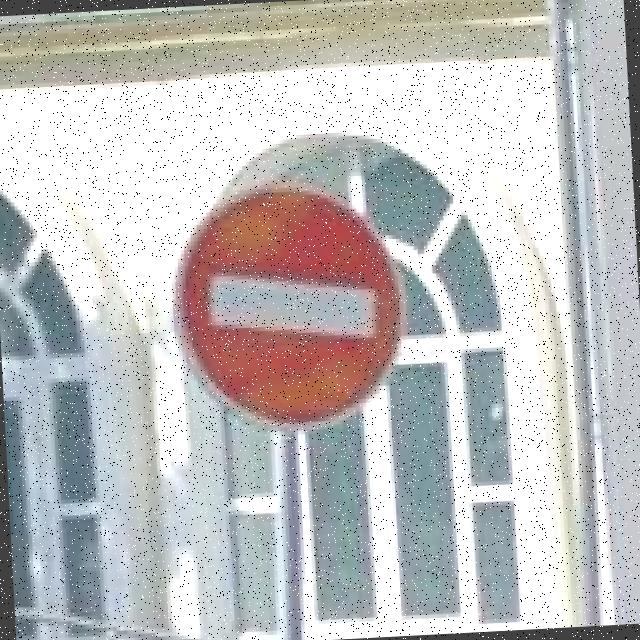Zakaz wjazdu: (163, 174, 412, 437)
